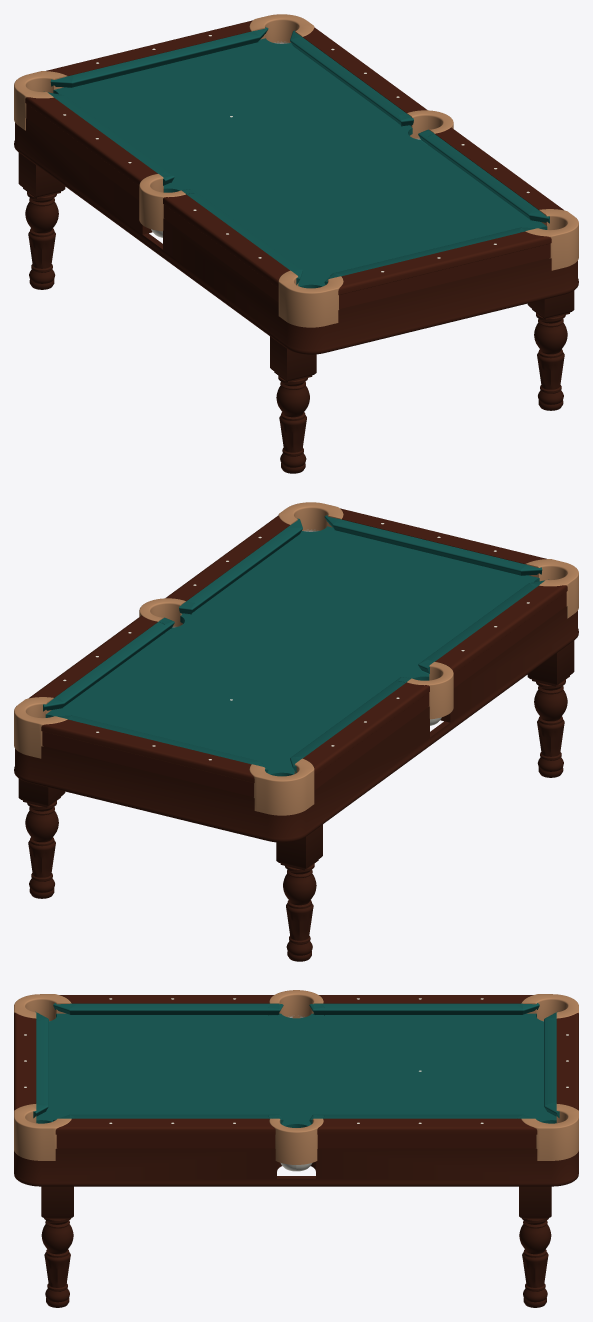
File: table-7ft.glb
The picture shows the model from 3 angles, top to bottom: view 1: azimuth 30°, elevation 25°; view 2: azimuth 150°, elevation 25°; view 3: azimuth 270°, elevation 25°; orthographic projection. The views are drawn at different scales.
Visible parts, largest first — view 1: 7ft-bed, 7ft-rails, 7ft-apron, 7ft-legs, 7ft-leathers, 7ft-cushion-2, 7ft-cushion-4, 7ft-cushion-3, 7ft-cushion-1, 7ft-cushion-0, 7ft-cushion-5; view 2: 7ft-bed, 7ft-rails, 7ft-apron, 7ft-legs, 7ft-leathers, 7ft-cushion-5, 7ft-cushion-3, 7ft-cushion-4, 7ft-cushion-0, 7ft-cushion-1, 7ft-cushion-2; view 3: 7ft-bed, 7ft-rails, 7ft-apron, 7ft-leathers, 7ft-legs, 7ft-cushion-0, 7ft-cushion-1, 7ft-cushion-2, 7ft-cushion-5, 7ft-cushion-3, 7ft-cushion-4.
Boxes of the visible parts, x1,y1,x2,y2 form: 7ft-bed: (53, 38, 547, 288); 7ft-rails: (25, 20, 563, 309); 7ft-apron: (14, 118, 578, 354); 7ft-legs: (18, 152, 574, 473); 7ft-leathers: (14, 14, 578, 327); 7ft-cushion-2: (50, 27, 268, 87); 7ft-cushion-4: (418, 129, 549, 223); 7ft-cushion-3: (290, 30, 413, 126); 7ft-cushion-1: (44, 91, 174, 186); 7ft-cushion-0: (179, 189, 302, 285); 7ft-cushion-5: (324, 227, 541, 284); 7ft-bed: (45, 526, 539, 776); 7ft-rails: (29, 508, 567, 797); 7ft-apron: (14, 606, 578, 842); 7ft-legs: (18, 640, 574, 961); 7ft-leathers: (14, 502, 578, 815); 7ft-cushion-5: (324, 515, 542, 575); 7ft-cushion-3: (43, 617, 174, 711); 7ft-cushion-4: (179, 518, 302, 614); 7ft-cushion-0: (418, 579, 548, 674); 7ft-cushion-1: (290, 677, 413, 773); 7ft-cushion-2: (51, 715, 268, 772); 7ft-bed: (36, 1013, 556, 1127); 7ft-rails: (14, 995, 578, 1148); 7ft-apron: (14, 1148, 578, 1186); 7ft-leathers: (14, 990, 578, 1164); 7ft-legs: (41, 1186, 551, 1307); 7ft-cushion-0: (53, 1003, 283, 1015); 7ft-cushion-1: (309, 1003, 539, 1015); 7ft-cushion-2: (544, 1011, 559, 1118); 7ft-cushion-5: (33, 1011, 48, 1118); 7ft-cushion-3: (309, 1114, 539, 1124); 7ft-cushion-4: (53, 1114, 283, 1124).
Size of the model in its own units: 1.35 by 0.8077 by 2.26.
